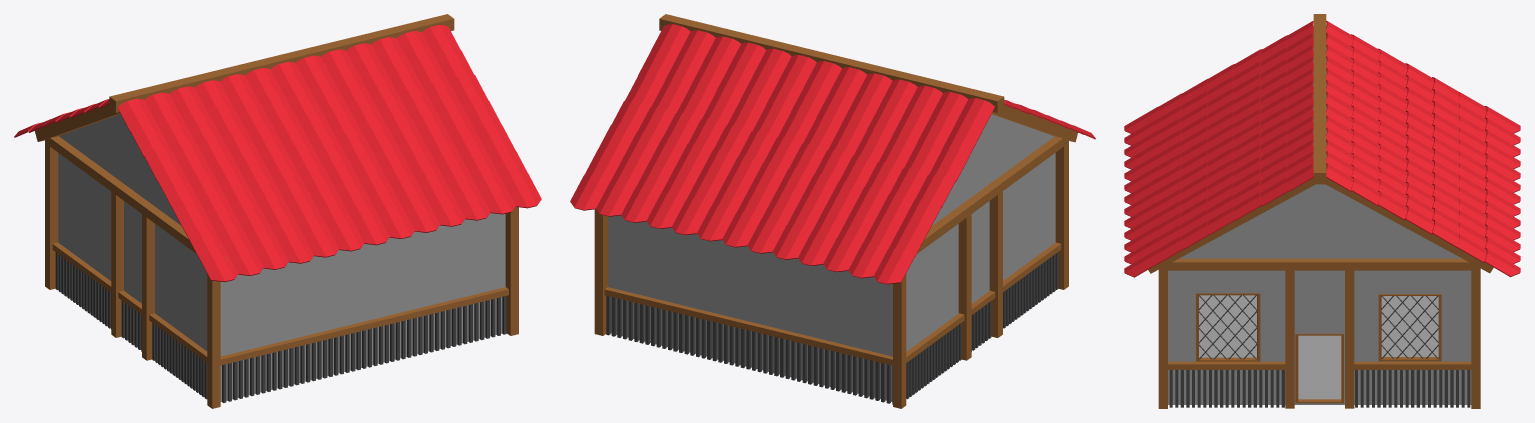
The model's file is medievalone.fbx.
3 renders of one model, left to right at view 1: azimuth 30°, elevation 25°; view 2: azimuth 150°, elevation 25°; view 3: azimuth 270°, elevation 25°, orthographic. The views are drawn at different scales.
Parts seen in each view (by area): view 1: floor, Plane.072, Cube, Plane.070, Plane.068, Plane.066, Plane.069, Plane.067, Plane.071, roof, rooframe.001, woodfr.023 (+12 smaller); view 2: floor, Plane.073, Cube.001, Plane.078, Plane.074, Plane.079, Plane.076, Plane.077, Plane.075, roof, rooframe.001, woodfr.022 (+12 smaller); view 3: floor, roof, Plane.073, Plane.072, Plane.078, Plane.068, Plane.074, Plane.077, Plane.066, Plane.079, Plane.070, Plane.076 (+21 smaller).
Boxes of the visible parts, x1=… form: floor: x1=58, y1=153, x2=505, y2=401; Plane.072: x1=197, y1=173, x2=541, y2=282; Cube: x1=222, y1=296, x2=506, y2=402; Plane.070: x1=171, y1=125, x2=515, y2=232; Plane.068: x1=144, y1=74, x2=487, y2=181; Plane.066: x1=117, y1=25, x2=460, y2=132; Plane.069: x1=158, y1=100, x2=501, y2=207; Plane.067: x1=130, y1=50, x2=474, y2=157; Plane.071: x1=185, y1=150, x2=527, y2=257; roof: x1=59, y1=114, x2=180, y2=225; rooframe.001: x1=109, y1=14, x2=454, y2=112; woodfr.023: x1=220, y1=287, x2=508, y2=365; floor: x1=608, y1=153, x2=1055, y2=401; Plane.073: x1=570, y1=175, x2=914, y2=284; Cube.001: x1=606, y1=296, x2=892, y2=404; Plane.078: x1=625, y1=74, x2=969, y2=182; Plane.074: x1=584, y1=149, x2=928, y2=256; Plane.079: x1=638, y1=49, x2=982, y2=155; Plane.076: x1=651, y1=24, x2=994, y2=130; Plane.077: x1=611, y1=100, x2=955, y2=207; Plane.075: x1=598, y1=125, x2=941, y2=232; roof: x1=932, y1=114, x2=1054, y2=225; rooframe.001: x1=659, y1=14, x2=1004, y2=112; woodfr.022: x1=604, y1=287, x2=892, y2=365; floor: x1=1168, y1=258, x2=1471, y2=404; roof: x1=1180, y1=47, x2=1461, y2=258; Plane.073: x1=1484, y1=106, x2=1520, y2=277; Plane.072: x1=1124, y1=106, x2=1159, y2=277; Plane.078: x1=1378, y1=48, x2=1407, y2=219; Plane.068: x1=1233, y1=49, x2=1262, y2=220; Plane.074: x1=1457, y1=92, x2=1486, y2=262; Plane.077: x1=1405, y1=63, x2=1434, y2=234; Plane.066: x1=1286, y1=21, x2=1313, y2=191; Plane.079: x1=1351, y1=34, x2=1379, y2=205; Plane.070: x1=1181, y1=78, x2=1209, y2=249; Plane.076: x1=1326, y1=21, x2=1353, y2=191.
Bounding box in the file's own units: 1207 × 862 × 1270.
